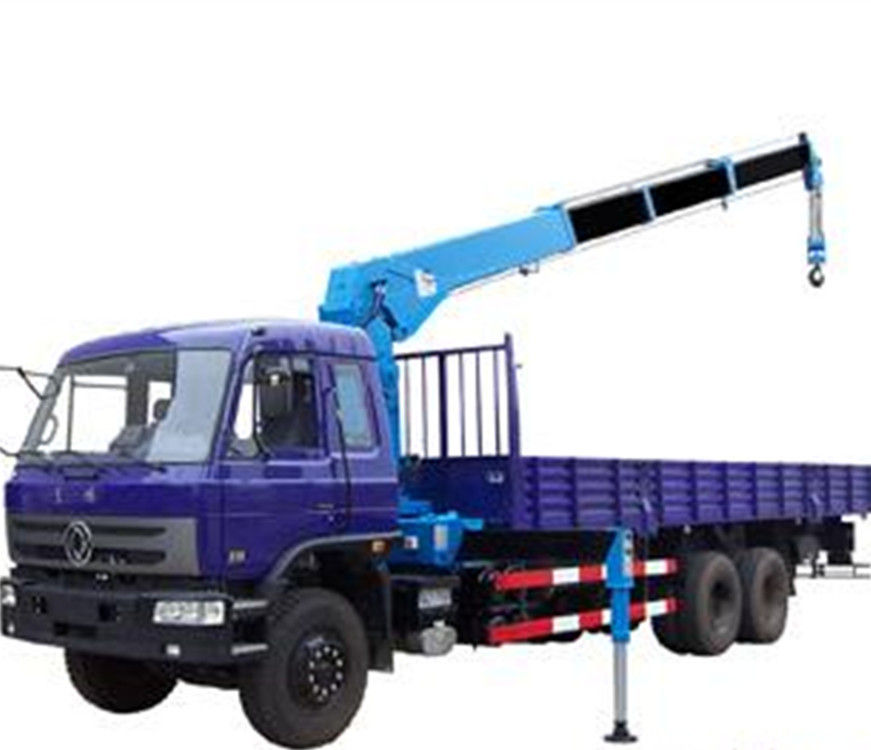crane: (6, 137, 870, 744)
